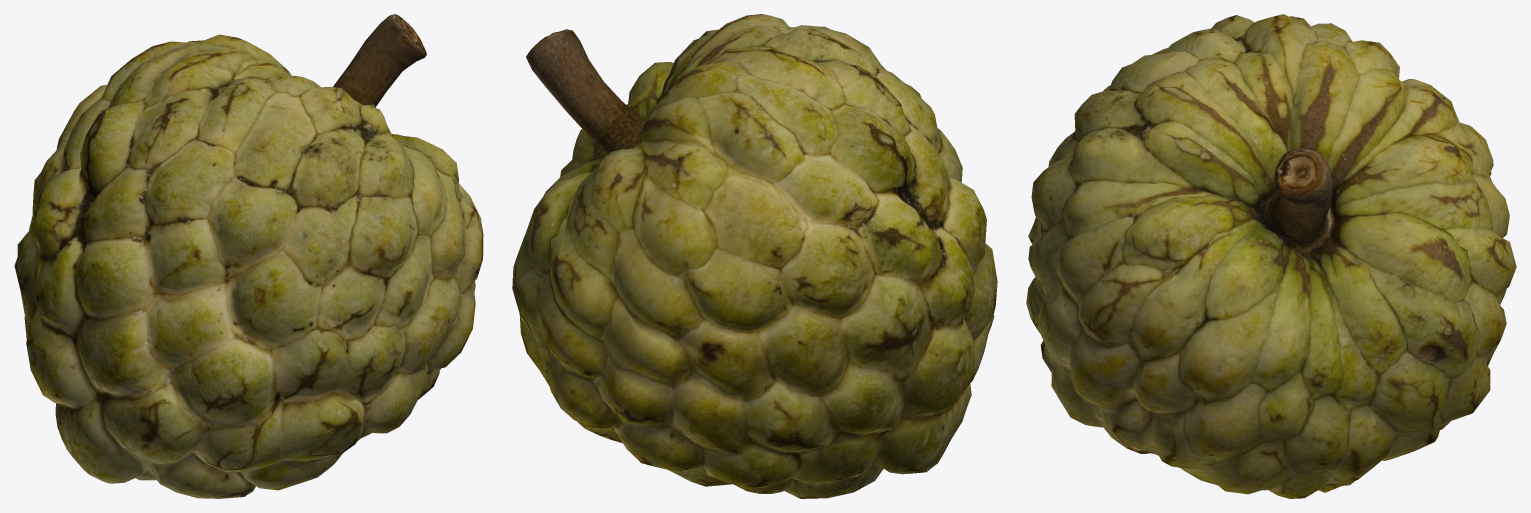
File: kiri_anone.gltf
3 renders of one model, left to right at view 1: azimuth 30°, elevation 25°; view 2: azimuth 150°, elevation 25°; view 3: azimuth 270°, elevation 25°, orthographic. The views are drawn at different scales.
Visible parts, largest first — view 1: A138_Custard_Apple; view 2: A138_Custard_Apple; view 3: A138_Custard_Apple.
Boxes of the visible parts, box(x1,y1,x2,y2) form: A138_Custard_Apple: box(14, 14, 483, 498); A138_Custard_Apple: box(512, 14, 997, 498); A138_Custard_Apple: box(1026, 14, 1516, 498).
Size of the model in its own units: 0.0446 by 0.043 by 0.0432.
1 material, 1 textured.
